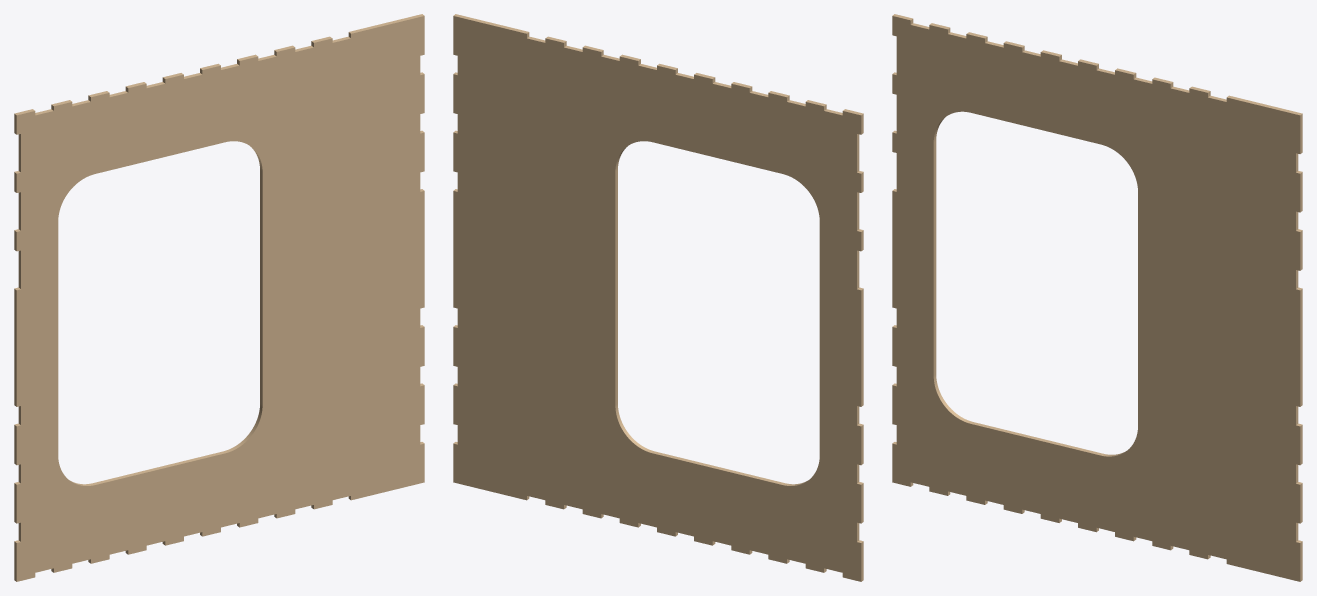
Rendered from NyxBoxV1_NyxRoyalLitterBot v106_Entry_1_Body1.obj.
The picture shows the model from 3 angles, left to right: view 1: azimuth 30°, elevation 25°; view 2: azimuth 150°, elevation 25°; view 3: azimuth 330°, elevation 25°; orthographic projection.
Visible parts, largest first — view 1: Body1; view 2: Body1; view 3: Body1.
Part boxes in pixels (x1,y1,x2,y2): Body1: (14,14,424,581); Body1: (453,14,863,581); Body1: (892,14,1302,581).
Size of the model in its own units: 558 by 610 by 6.
